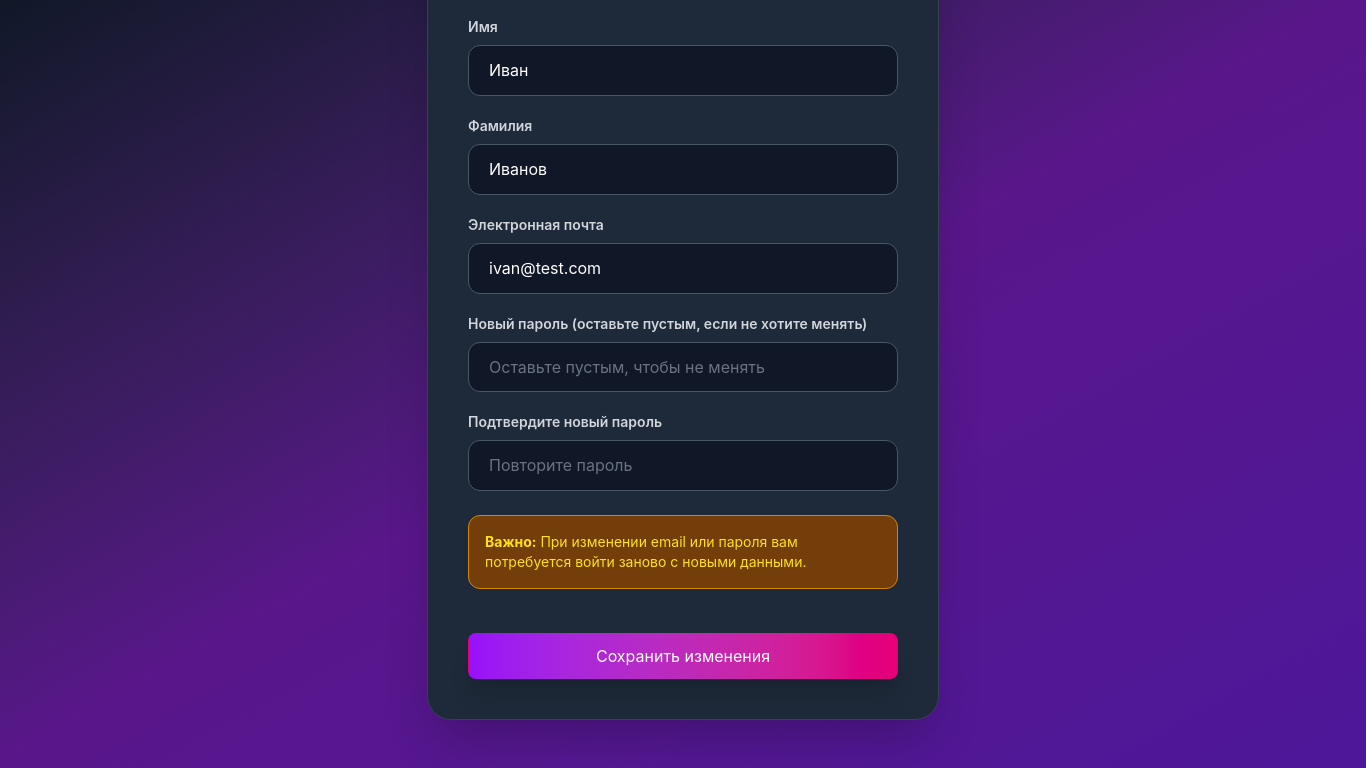
Scenario: Profile Page Coverage › должен закрывать уведомление при клике на крестик
This screenshot has width=1366, height=768.
(page scrolled)
Click the button "Сохранить изменения".
click(683, 656)  # box [468,633,898,679]
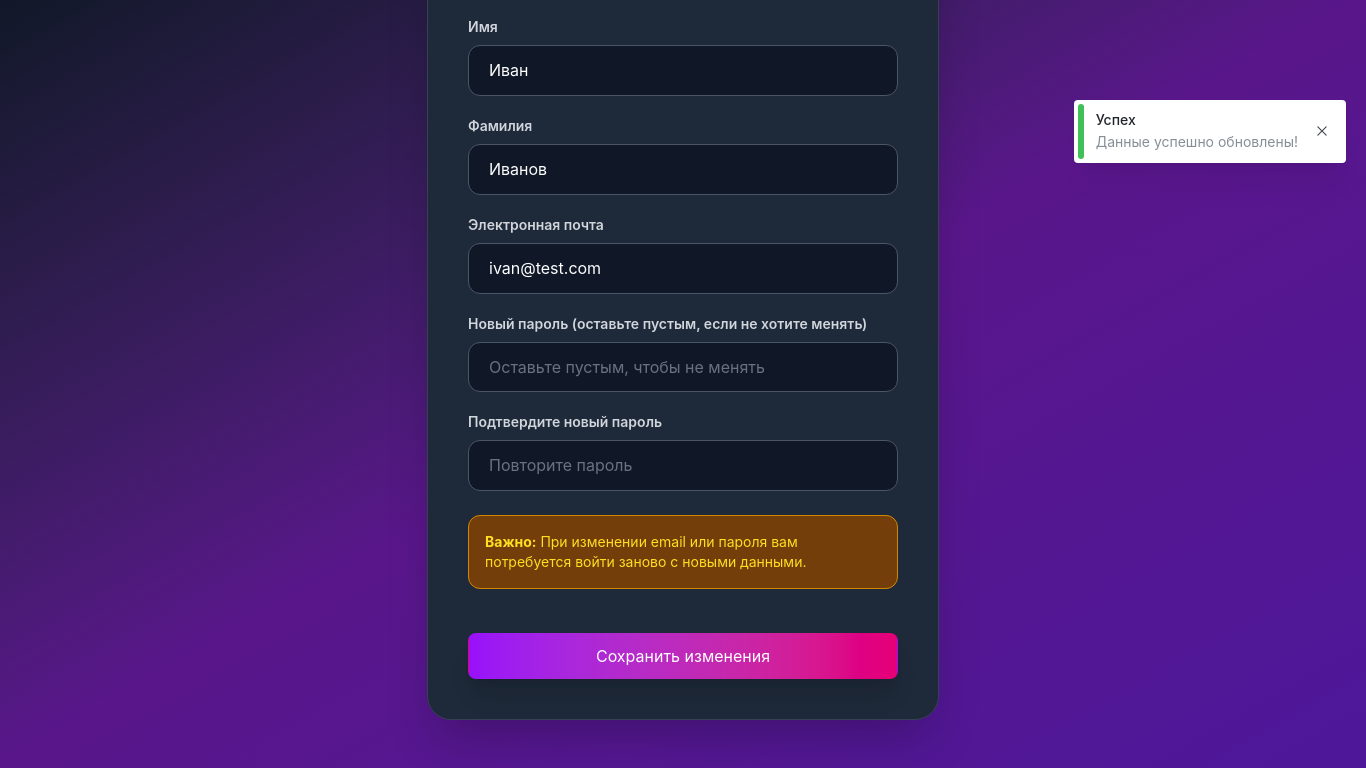
Expected: the text "Данные успешно обновлены!" is shown, [1096,132,1298,153]
Click the 1st button.
click(1322, 131)  # box [1308,117,1336,145]
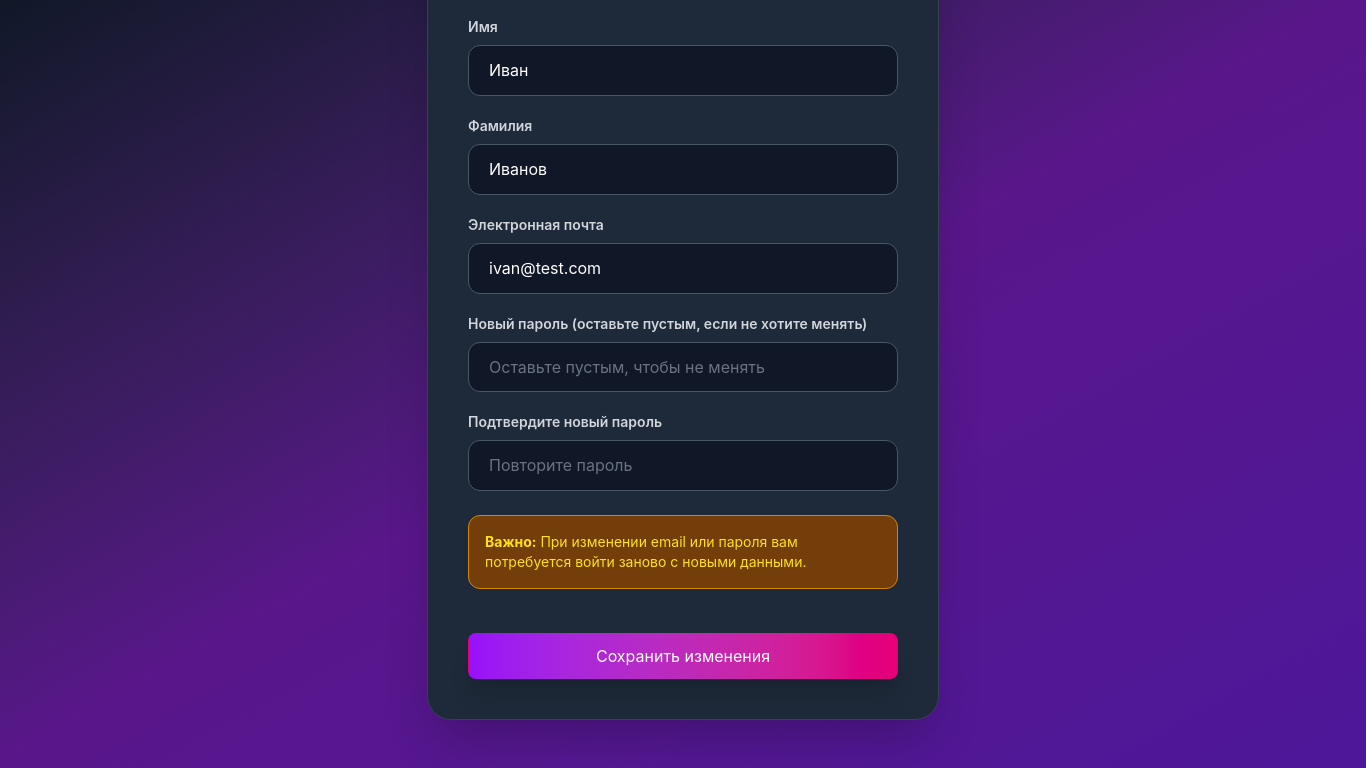
Expected: the text "Данные успешно обновлены!" is gone
